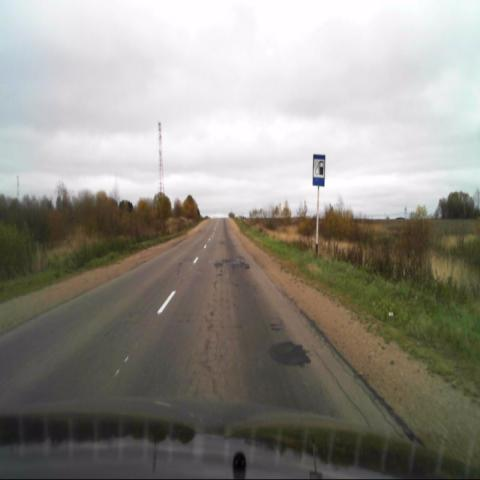7_3: (313, 153, 326, 186)
